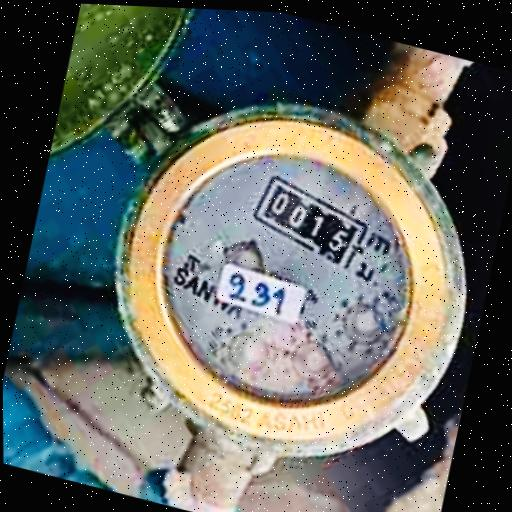0: (278, 191, 314, 237), (261, 182, 296, 225)
1: (295, 200, 338, 248)
5: (316, 212, 357, 267)
border_water_meter_number: (243, 167, 375, 274)
